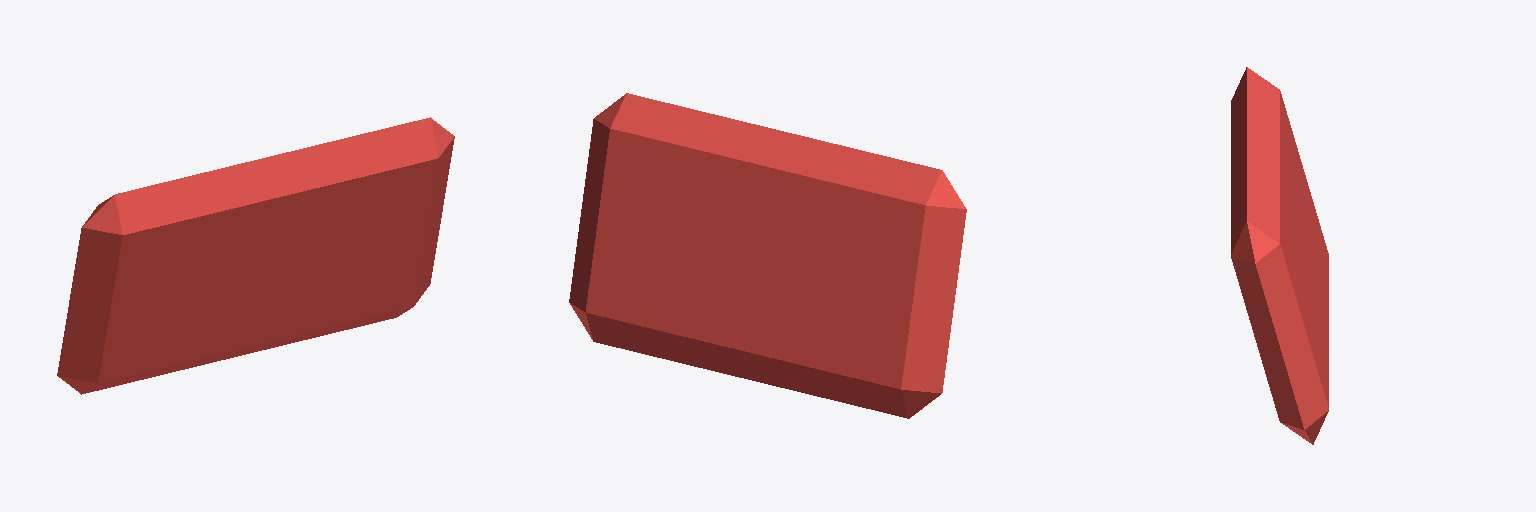
The model's file is pillowLong.obj.
3 views of the same model, side by side, from view 1: azimuth 30°, elevation 25°; view 2: azimuth 150°, elevation 25°; view 3: azimuth 270°, elevation 25° (orthographic).
Parts seen in each view (by area): view 1: pillowLong; view 2: pillowLong; view 3: pillowLong.
Part boxes in pixels (left/top/right/bottom): pillowLong: left=57, top=117, right=454, bottom=394; pillowLong: left=569, top=93, right=966, bottom=418; pillowLong: left=1231, top=67, right=1328, bottom=444.
Size of the model in its own units: 0.3866 by 0.2222 by 0.0885.